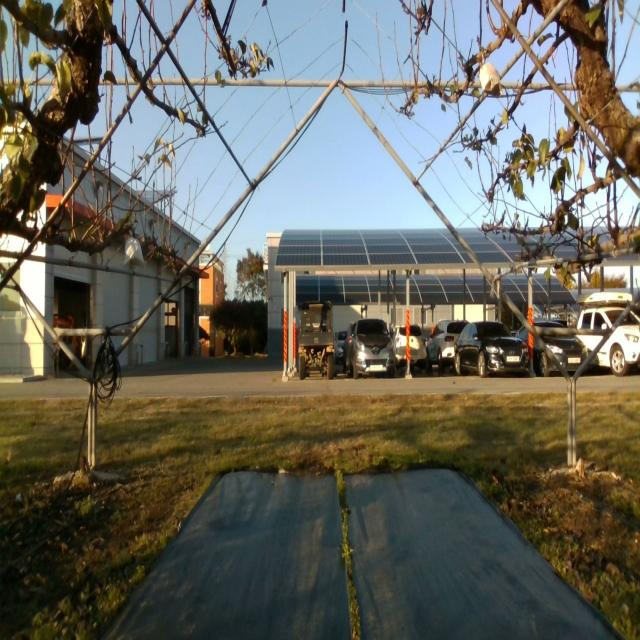pearbags: (479, 52, 503, 98), (124, 230, 145, 267)
